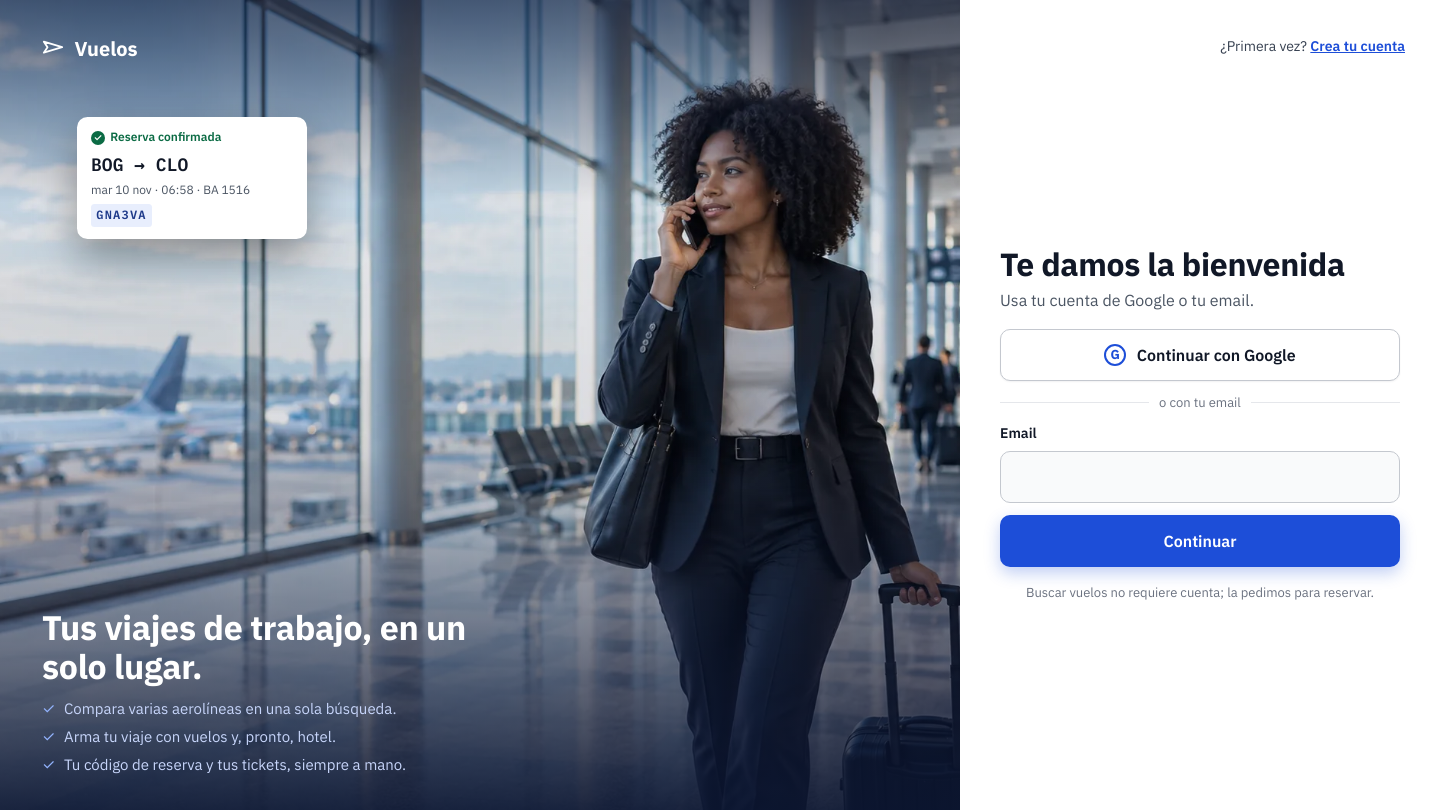
sign in › asks the email, then the password, and goes back where it started
The image size is (1440, 810).
Type "pepe.perez@ejemplo.com" into the field labelled "Email" at [1200, 477], box [1000, 451, 1400, 503]
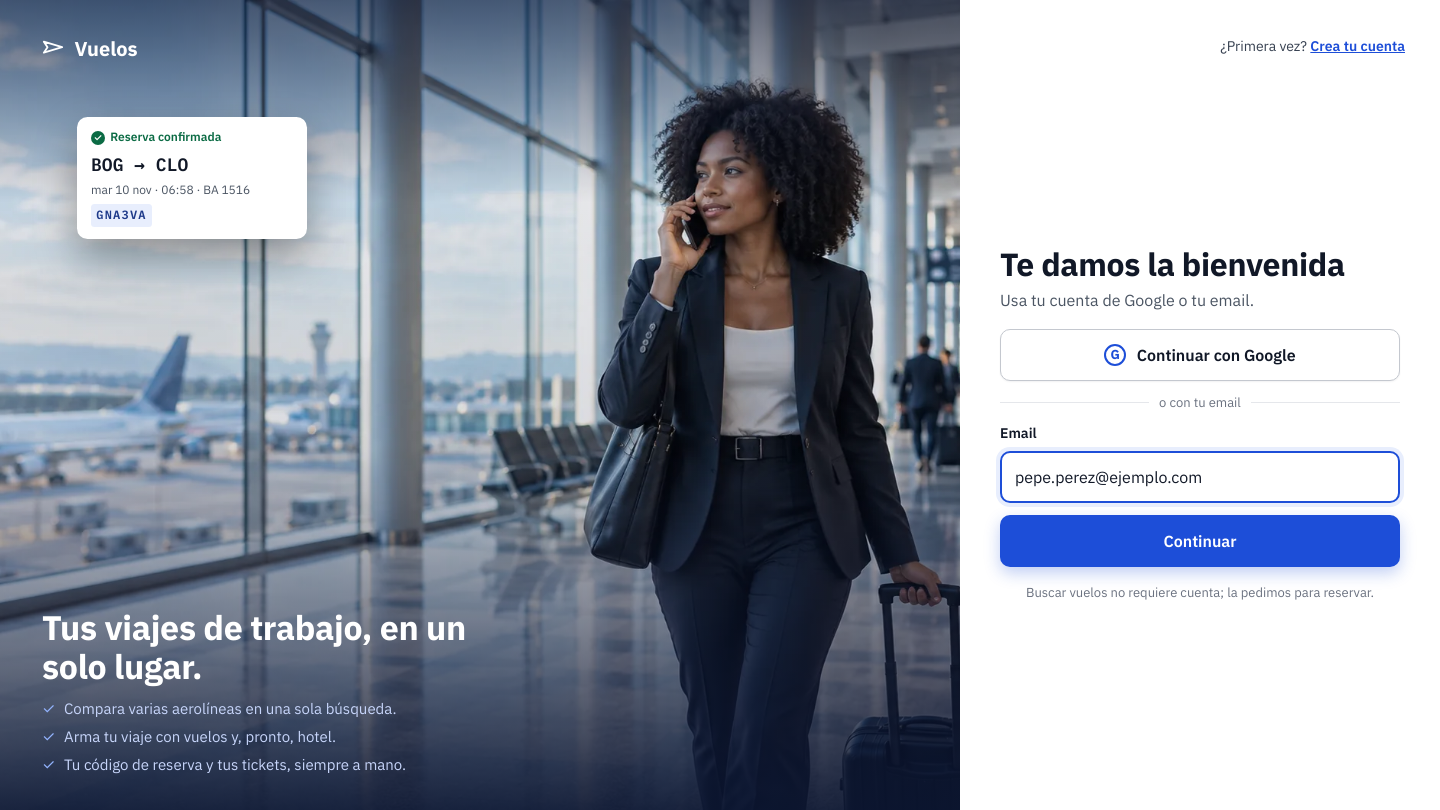
Click the button "Continuar" at [1200, 541], box [1000, 515, 1400, 567]
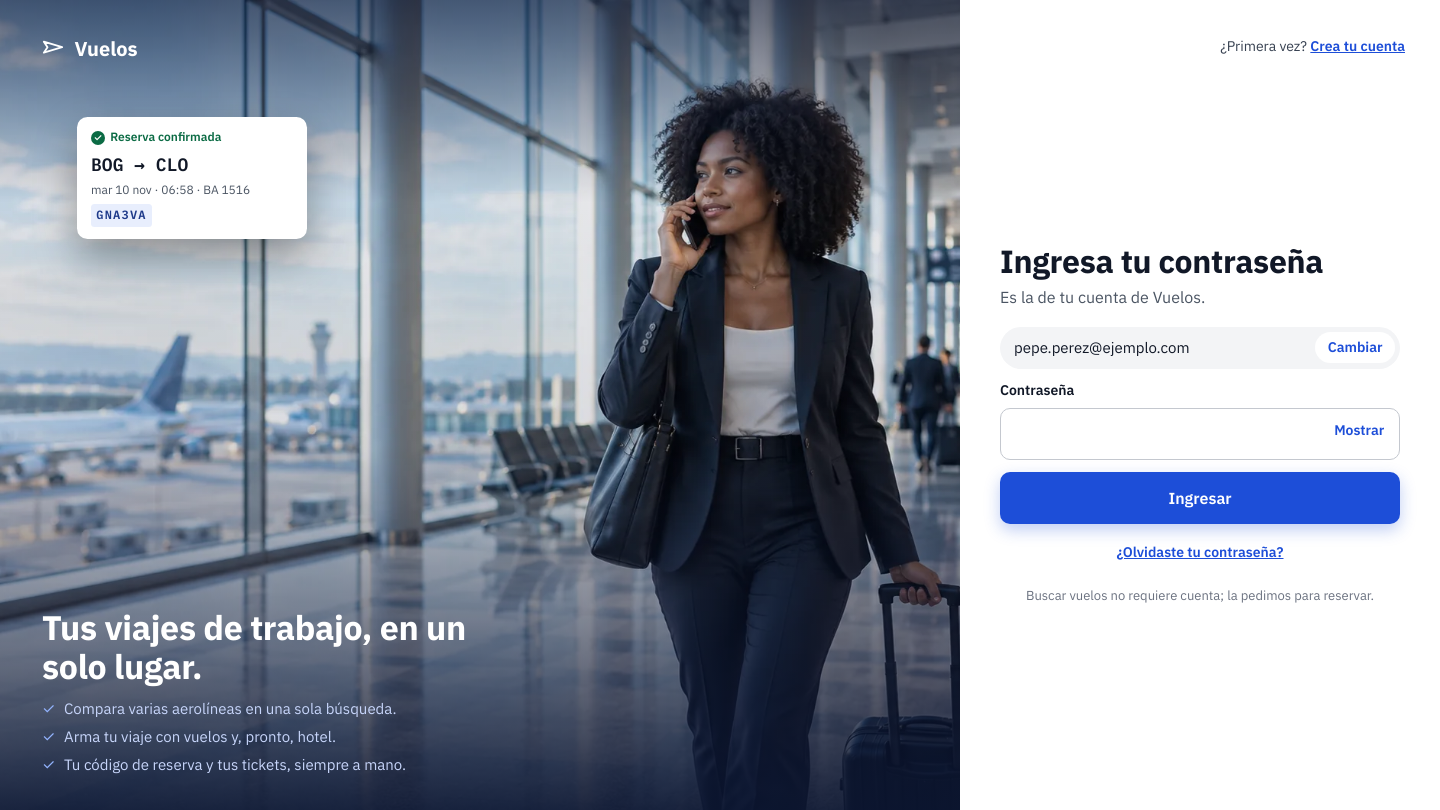
expect the heading "Ingresa tu contraseña" is shown: met, box [1000, 240, 1323, 282]
expect the text "pepe.perez@ejemplo.com" is shown: met, box [1014, 337, 1190, 358]
Type "una-clave-larga" into the password field labelled "Contraseña" at [1200, 434], box [1000, 408, 1400, 460]
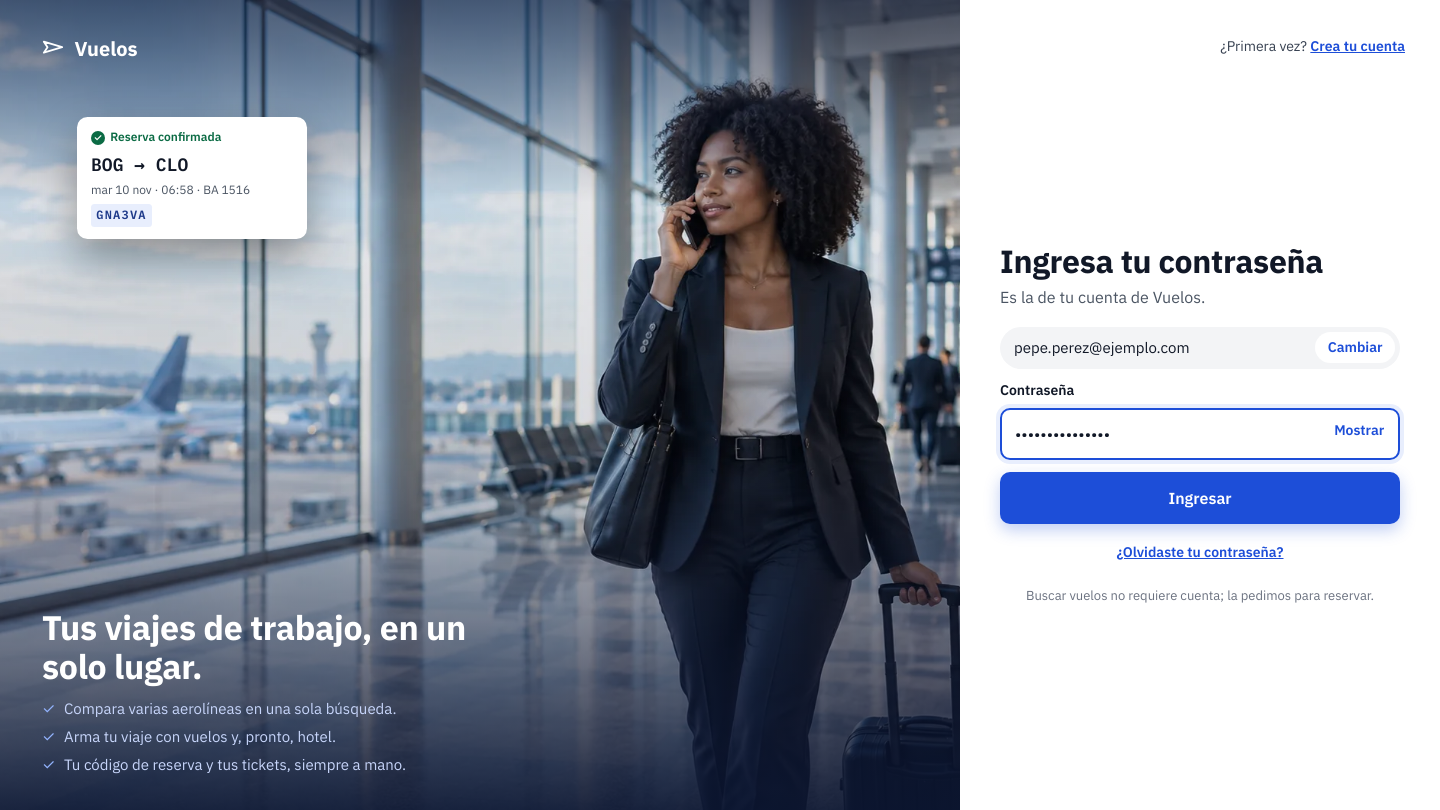
Click the button "Ingresar" at [1200, 498], box [1000, 472, 1400, 524]
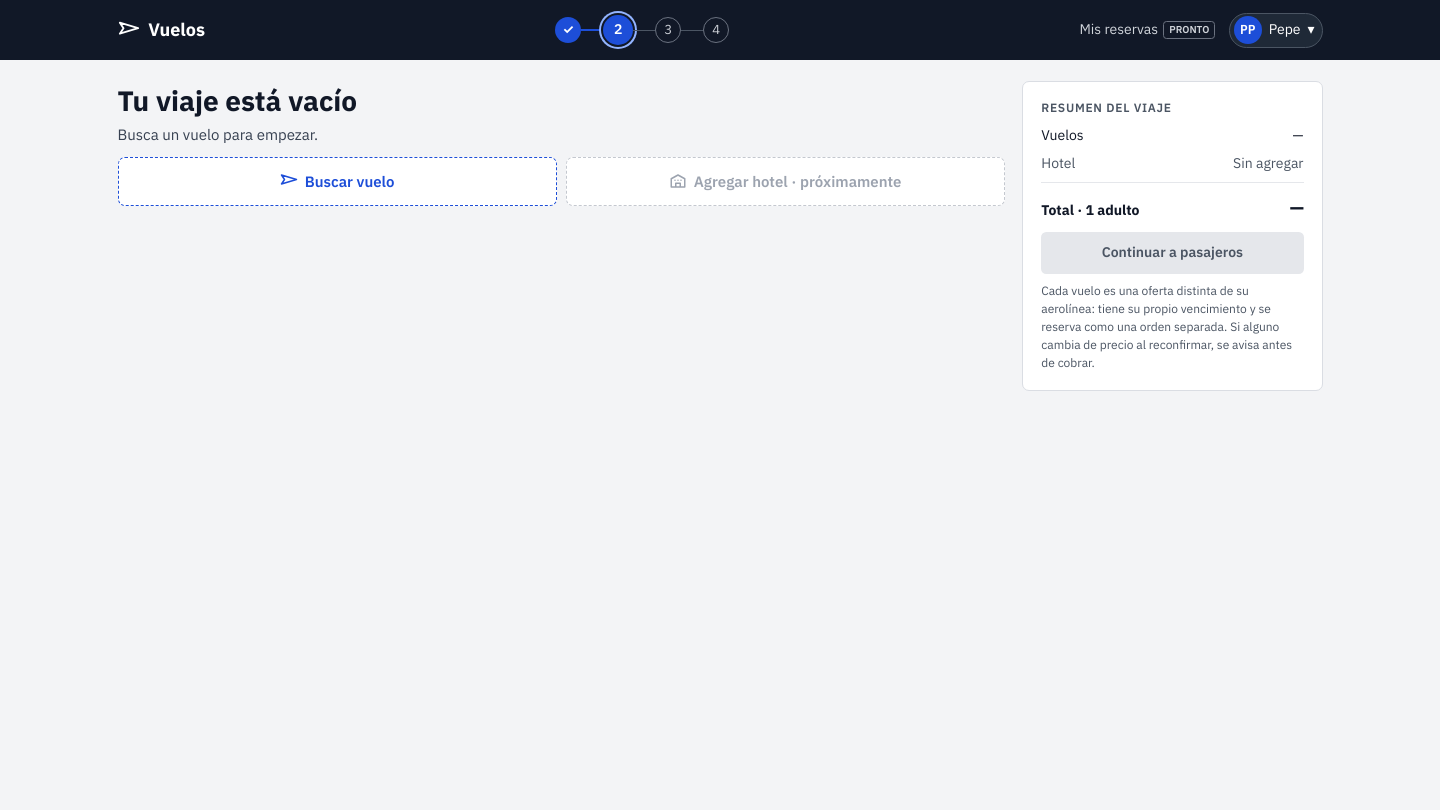
expect the heading "Tu viaje está vacío" is shown: met, box [118, 82, 357, 119]
